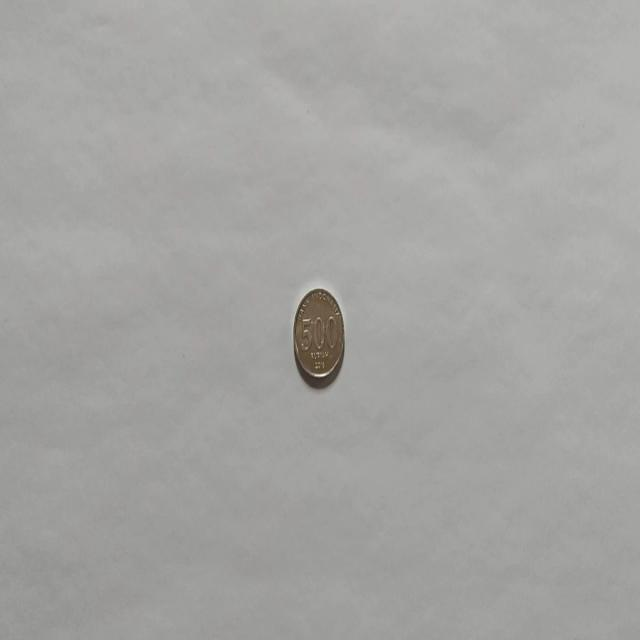lima ratus rupiah: (292, 285, 345, 387)
